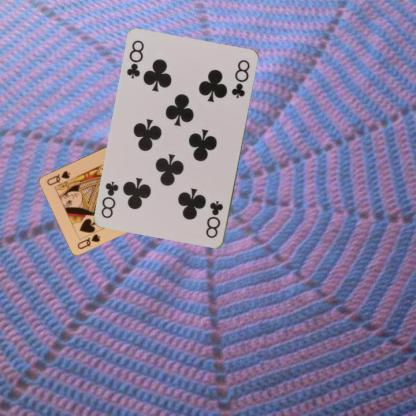8c: (203, 198, 225, 240), (124, 38, 146, 80)
Qs: (74, 231, 102, 250)
